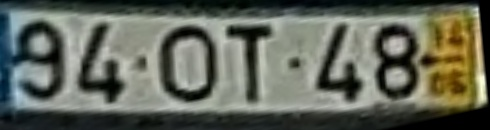4: (73, 22, 129, 106), (313, 21, 367, 107)
8: (371, 21, 423, 103)
9: (13, 16, 69, 103)
O: (154, 21, 220, 105)
T: (224, 23, 277, 107)
